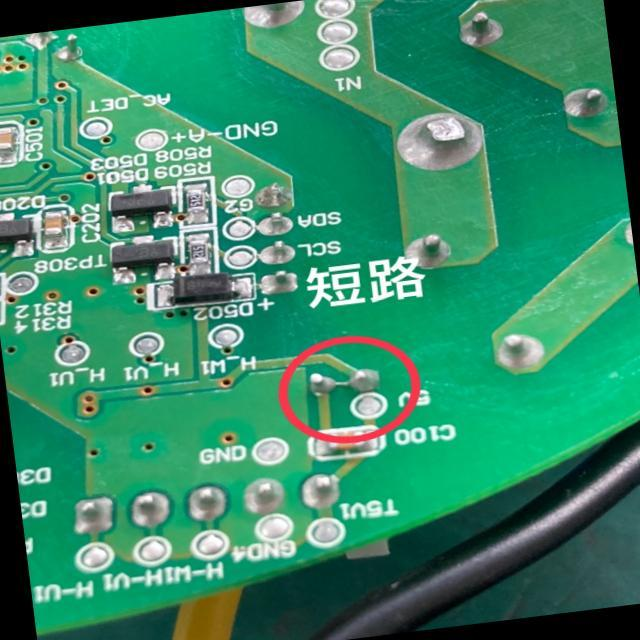Short_circuit: (310, 369, 379, 394)
